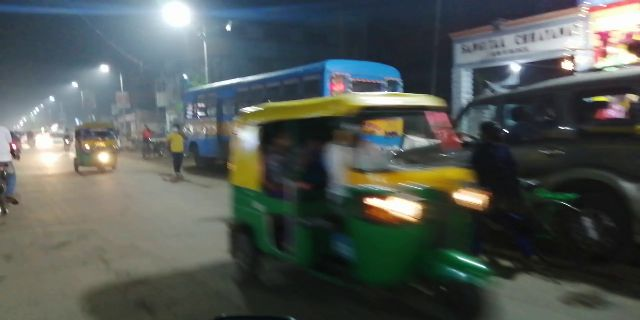Autorickshaw: (232, 97, 503, 309), (72, 123, 123, 175)
Bus: (177, 54, 407, 171)
